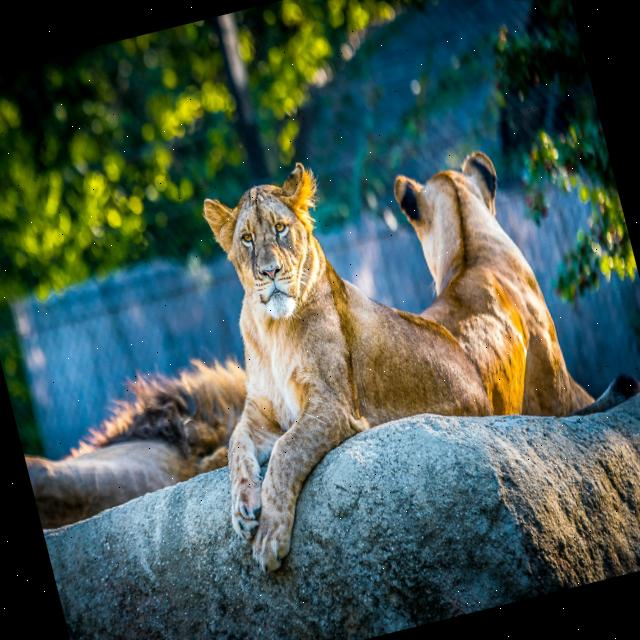Lion: (147, 128, 513, 583), (322, 142, 573, 447)
